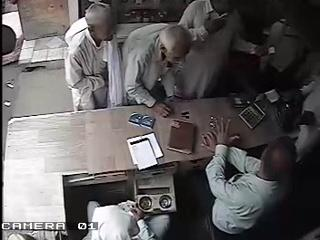Normal: (200, 117, 298, 238), (176, 1, 272, 100), (121, 23, 193, 118), (64, 1, 120, 111), (84, 201, 170, 240)
